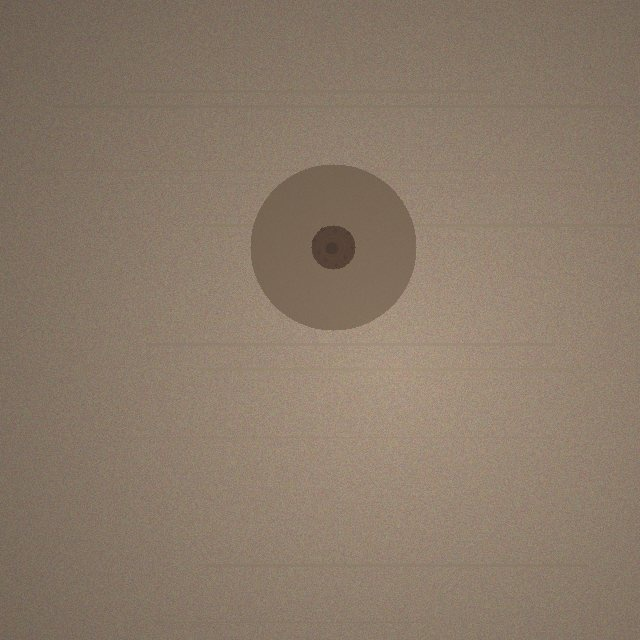cold_weld: (250, 164, 416, 330)
